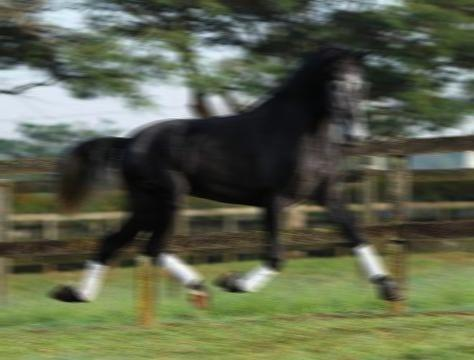horse: (48, 40, 406, 310)
